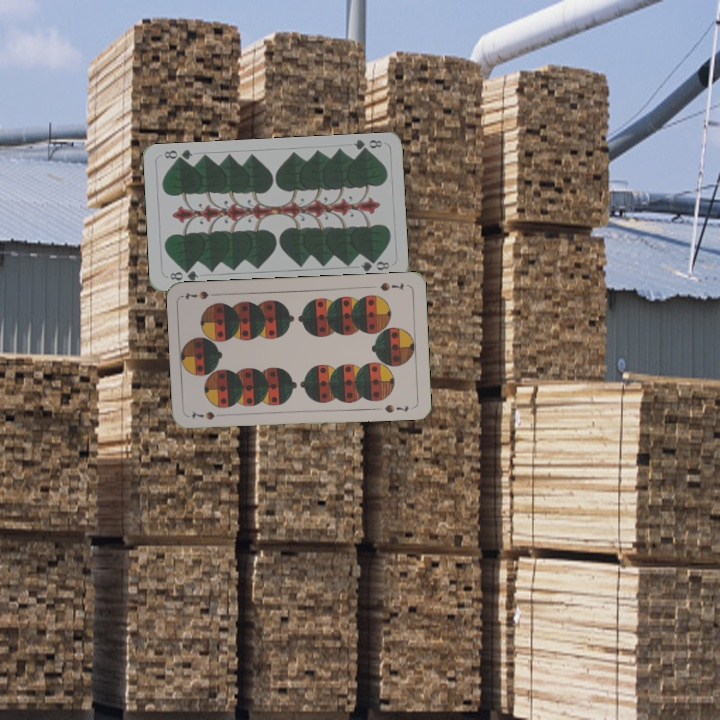G8: (350, 136, 384, 156), (166, 266, 201, 284)
S7: (188, 407, 227, 422), (376, 278, 407, 294)
